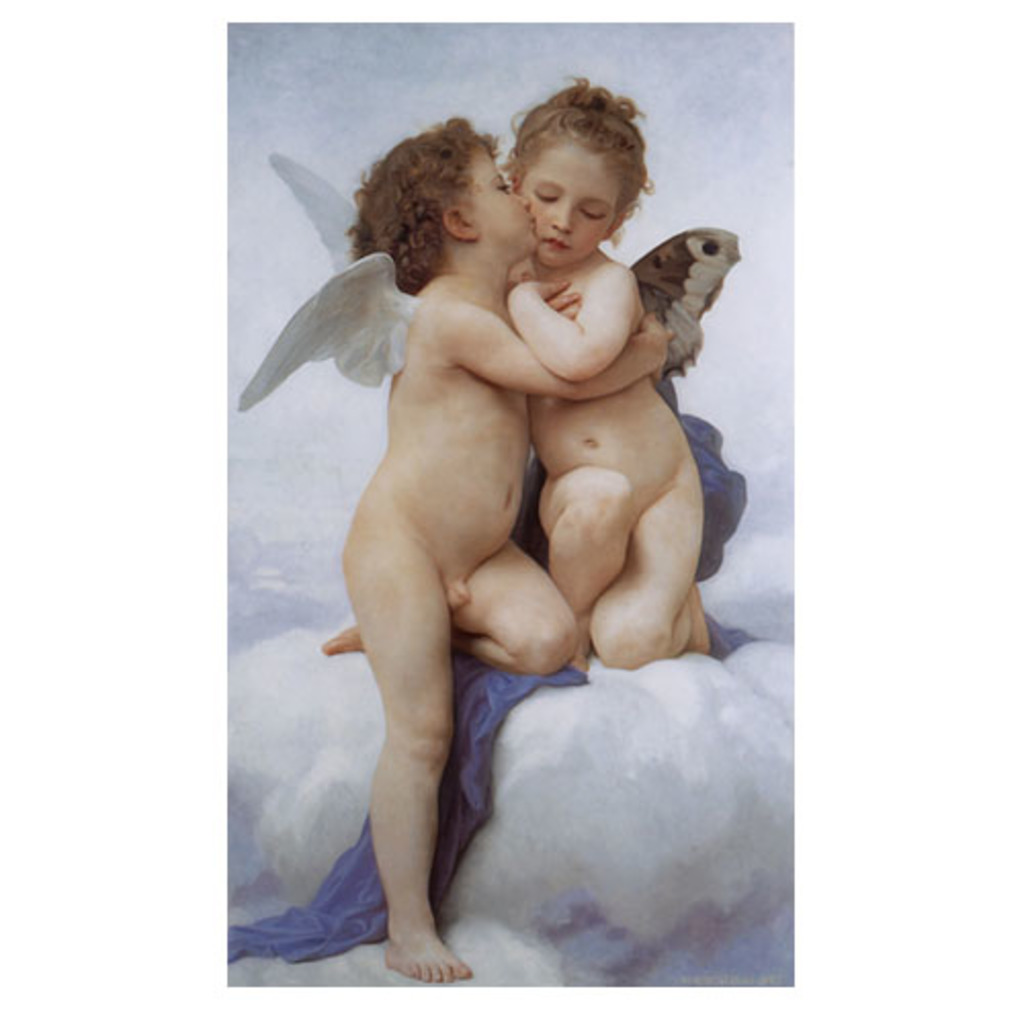Person: (498, 71, 708, 668)
